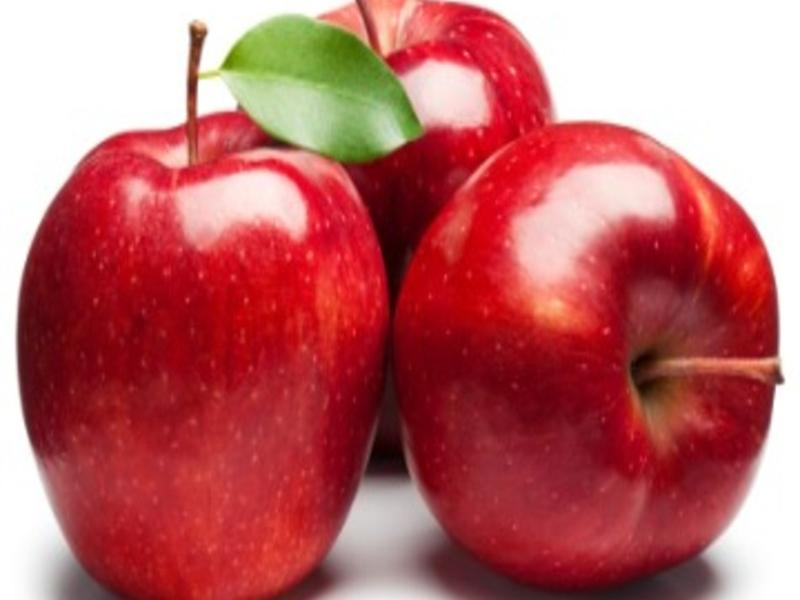apple: (395, 106, 791, 595), (14, 114, 398, 592)
